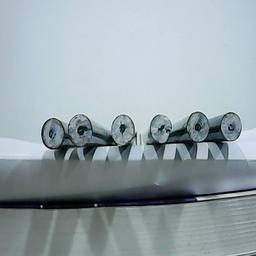pen: (40, 117, 65, 150), (184, 109, 209, 142), (109, 112, 134, 145), (67, 114, 92, 147), (148, 113, 173, 142), (219, 107, 240, 140)
